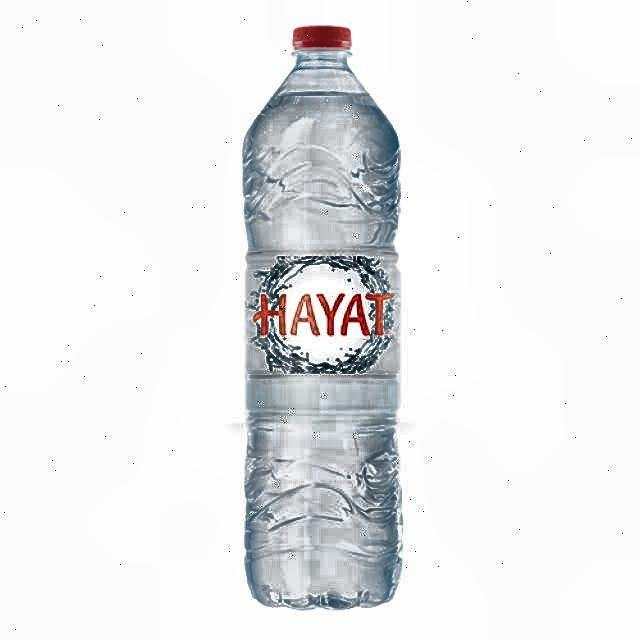plastic: (239, 25, 404, 612)
